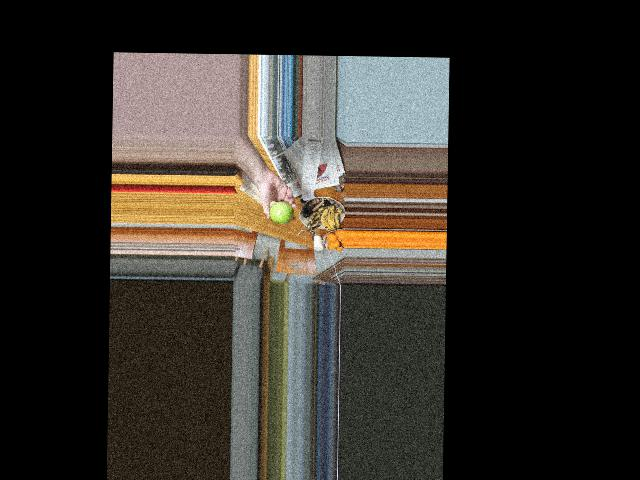apple: (269, 200, 293, 225)
